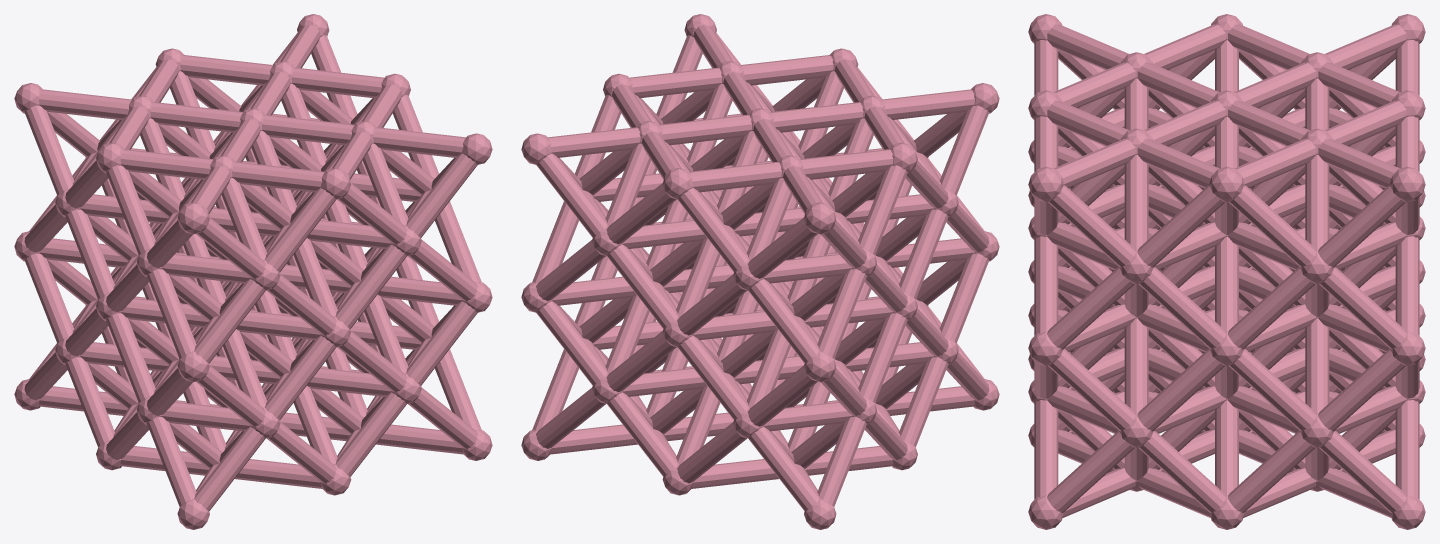
Rendered from octet_truss_demo.glb.
The picture shows the model from 3 angles, left to right: view 1: azimuth 30°, elevation 25°; view 2: azimuth 150°, elevation 25°; view 3: azimuth 270°, elevation 25°; orthographic projection. The views are drawn at different scales.
Parts seen in each view (by area): view 1: octet_truss; view 2: octet_truss; view 3: octet_truss.
Boxes of the visible parts, x1,y1,x2,y2 form: octet_truss: (14,14,492,529); octet_truss: (521,14,999,529); octet_truss: (1028,14,1425,529).
Size of the model in its own units: 26.4 by 26.4 by 26.4.
